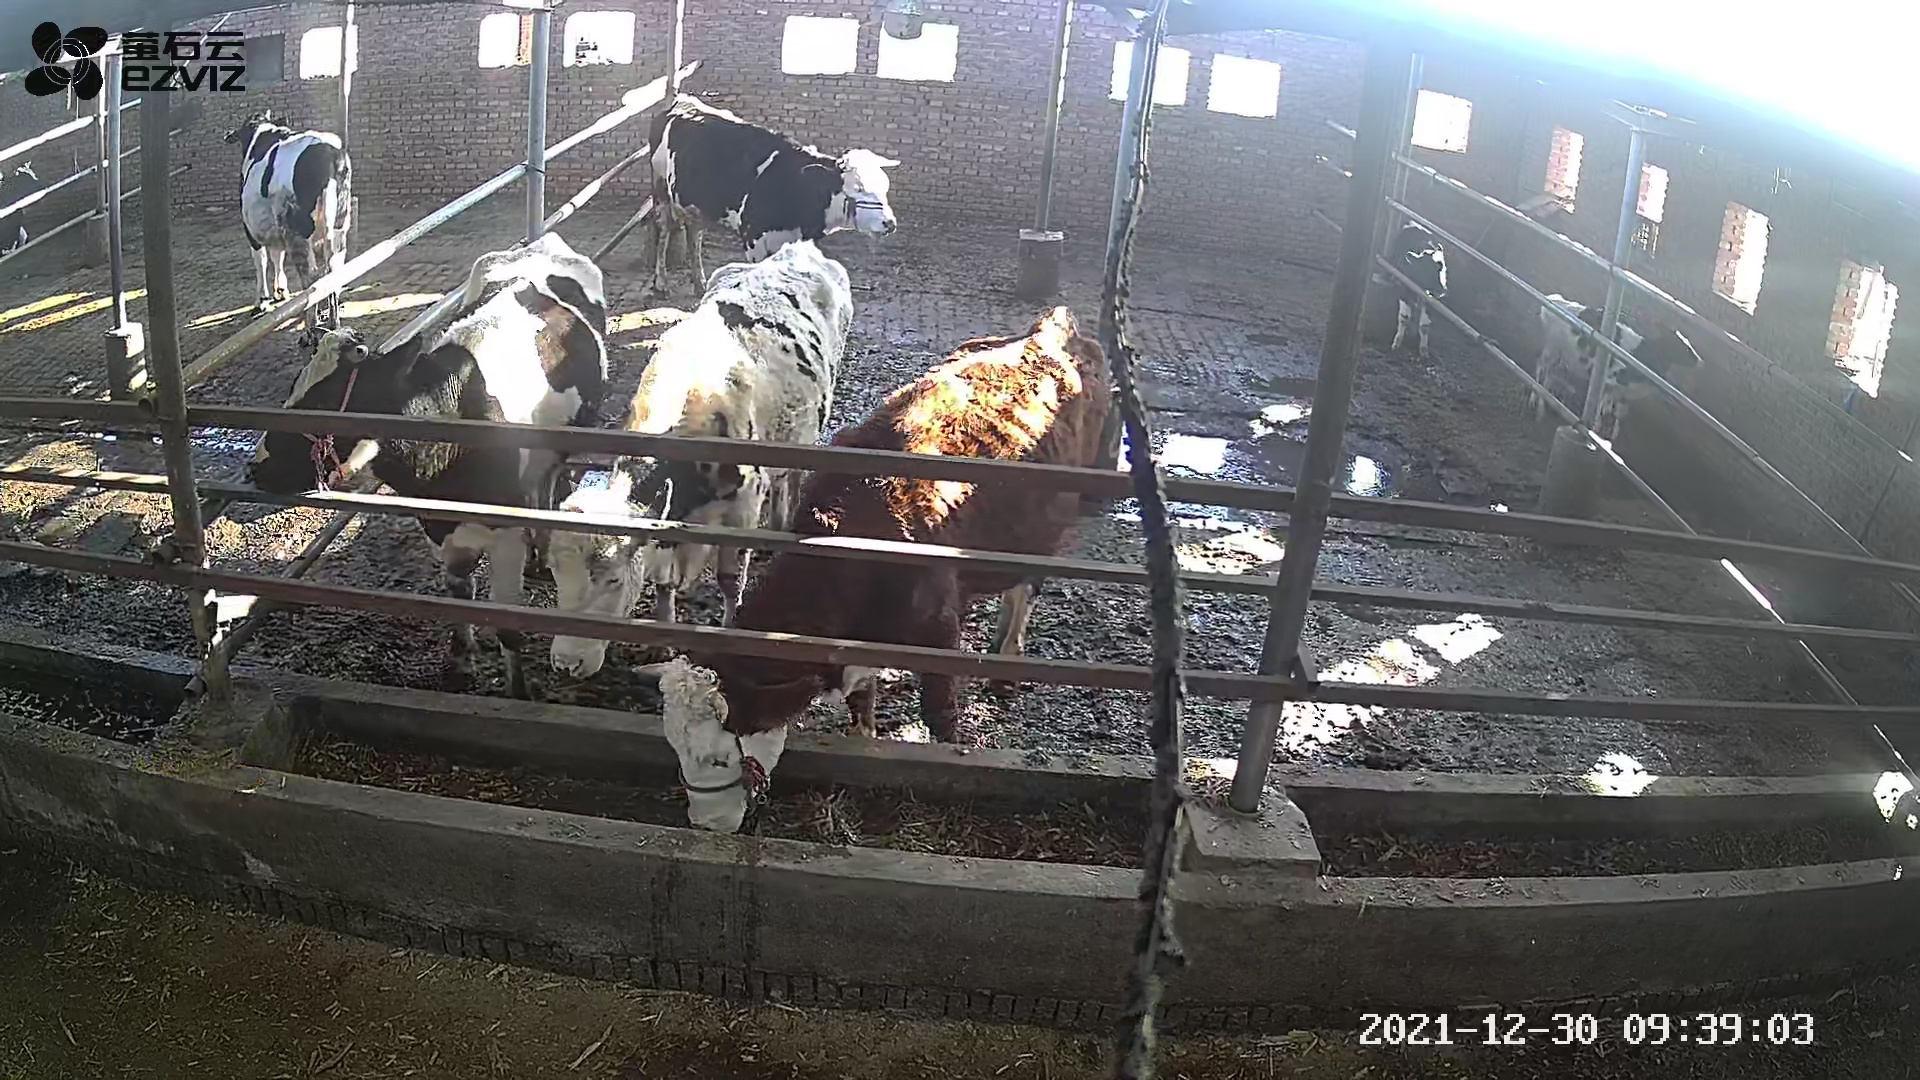cow: (632, 305, 1112, 836), (244, 229, 608, 702), (534, 236, 852, 680), (646, 91, 903, 301)
